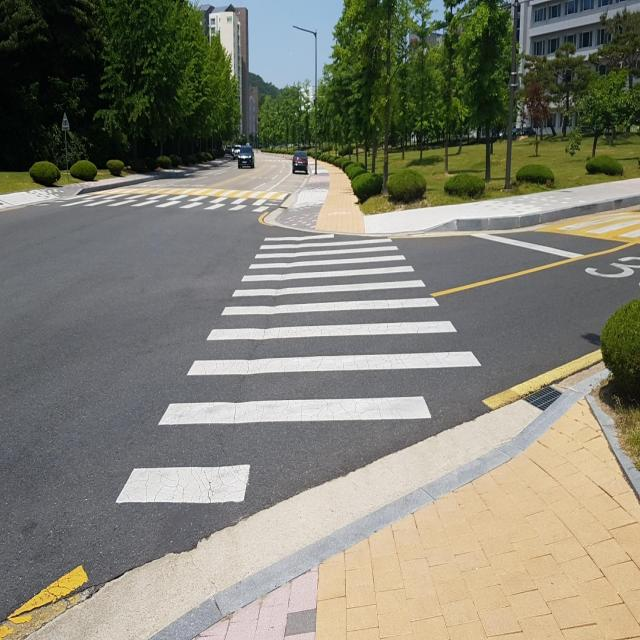횡단보도: (111, 225, 486, 511), (62, 189, 276, 219)
